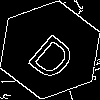D: (25, 25, 86, 83)
